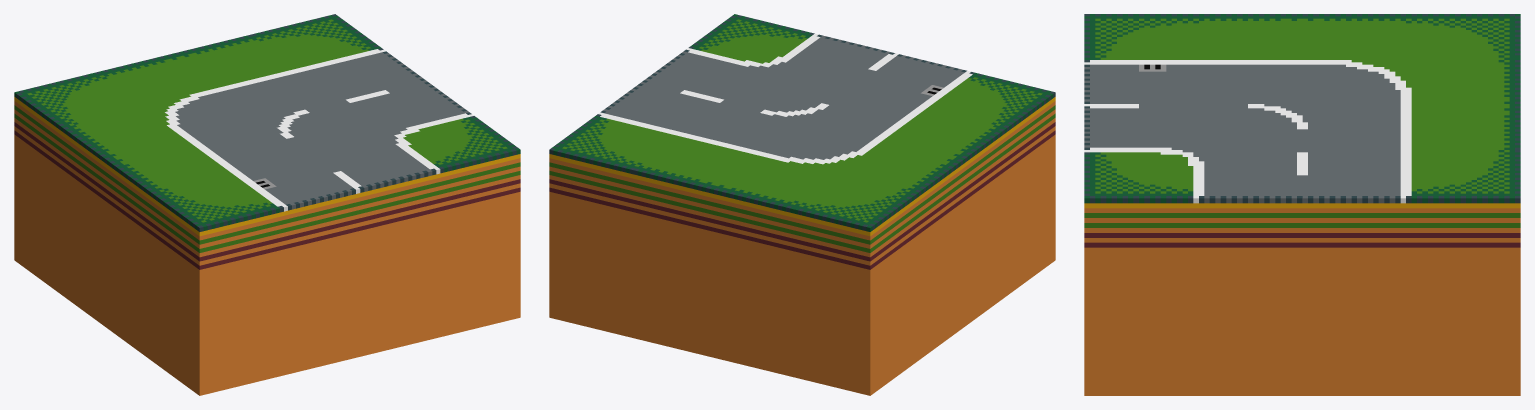
Rendered from road_2_tile.obj.
3 views of the same model, side by side, from view 1: azimuth 30°, elevation 25°; view 2: azimuth 150°, elevation 25°; view 3: azimuth 270°, elevation 25° (orthographic). The views are drawn at different scales.
Size of the model in its own units: 8 by 4 by 8.
1 material, 1 textured.
